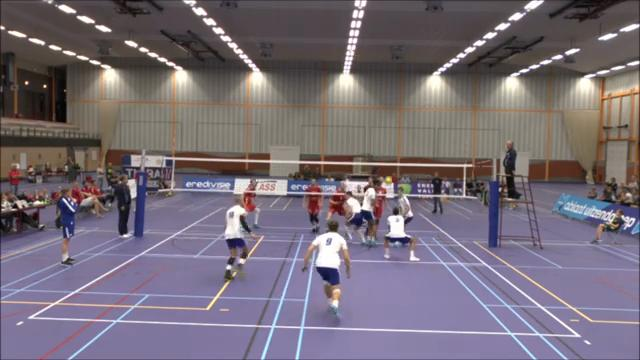Dig: (379, 201, 422, 264)
Player: (302, 221, 350, 316), (224, 197, 255, 280), (344, 191, 365, 243), (303, 179, 322, 232), (372, 178, 386, 240), (361, 184, 375, 245), (243, 179, 259, 228), (327, 182, 345, 220), (398, 187, 413, 225), (398, 187, 412, 225)
ball: (384, 175, 393, 186)
